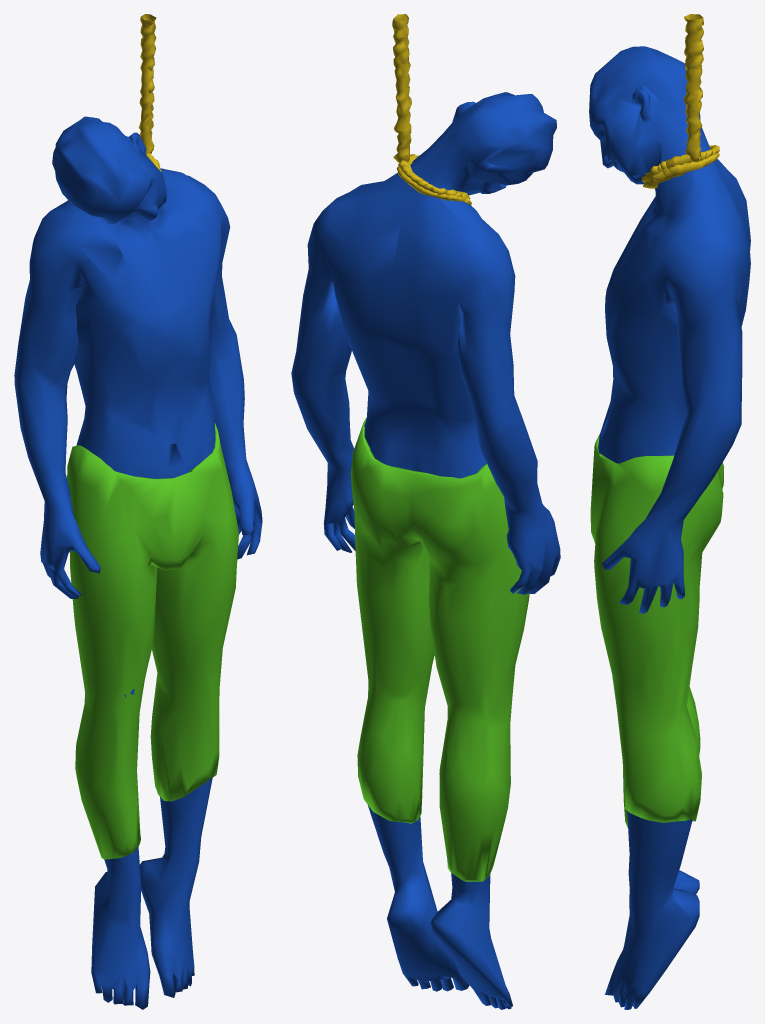
Rendered from HangingMan_Low001.FBX.
The picture shows the model from 3 angles, left to right: view 1: azimuth 30°, elevation 25°; view 2: azimuth 150°, elevation 25°; view 3: azimuth 270°, elevation 25°; orthographic projection. The views are drawn at different scales.
Visible parts, largest first — view 1: DeadMan_low, Pants_low, Rope_low; view 2: DeadMan_low, Pants_low, Rope_low; view 3: DeadMan_low, Pants_low, Rope_low.
Boxes of the visible parts, x1,y1,x2,y2 form: DeadMan_low: [14, 116, 262, 1009]; Pants_low: [67, 423, 238, 859]; Rope_low: [138, 14, 161, 171]; DeadMan_low: [291, 92, 560, 1009]; Pants_low: [351, 417, 529, 881]; Rope_low: [392, 14, 471, 205]; DeadMan_low: [589, 46, 750, 1009]; Pants_low: [590, 434, 723, 827]; Rope_low: [642, 14, 719, 188].
Size of the model in its own units: 49.63 by 206 by 30.49.
